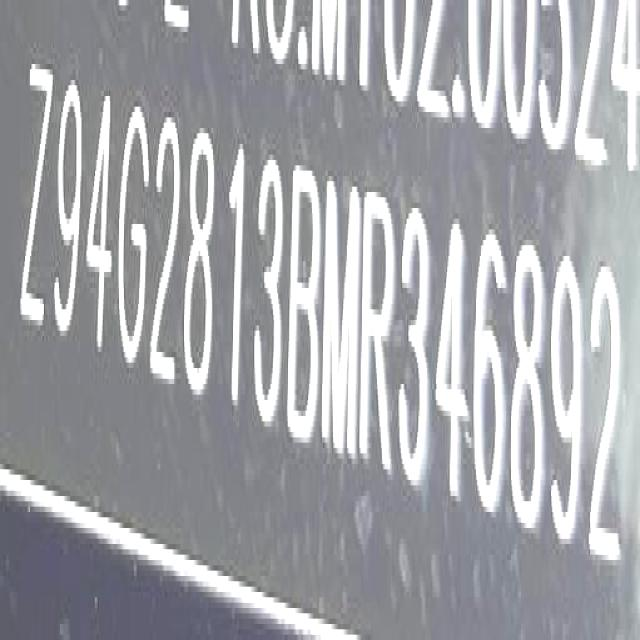1: (227, 150, 246, 419)
2: (590, 276, 624, 566), (154, 120, 182, 388)
3: (400, 213, 433, 497), (256, 158, 286, 433)
4: (435, 221, 469, 512), (88, 89, 116, 360)
6: (475, 232, 507, 524)
8: (513, 247, 547, 534), (187, 124, 217, 400)
9: (548, 256, 582, 556), (55, 77, 84, 352)
B: (291, 166, 323, 453)
G: (119, 104, 153, 378)
M: (323, 178, 361, 468)
R: (365, 190, 398, 482)
Z: (21, 60, 51, 335)
